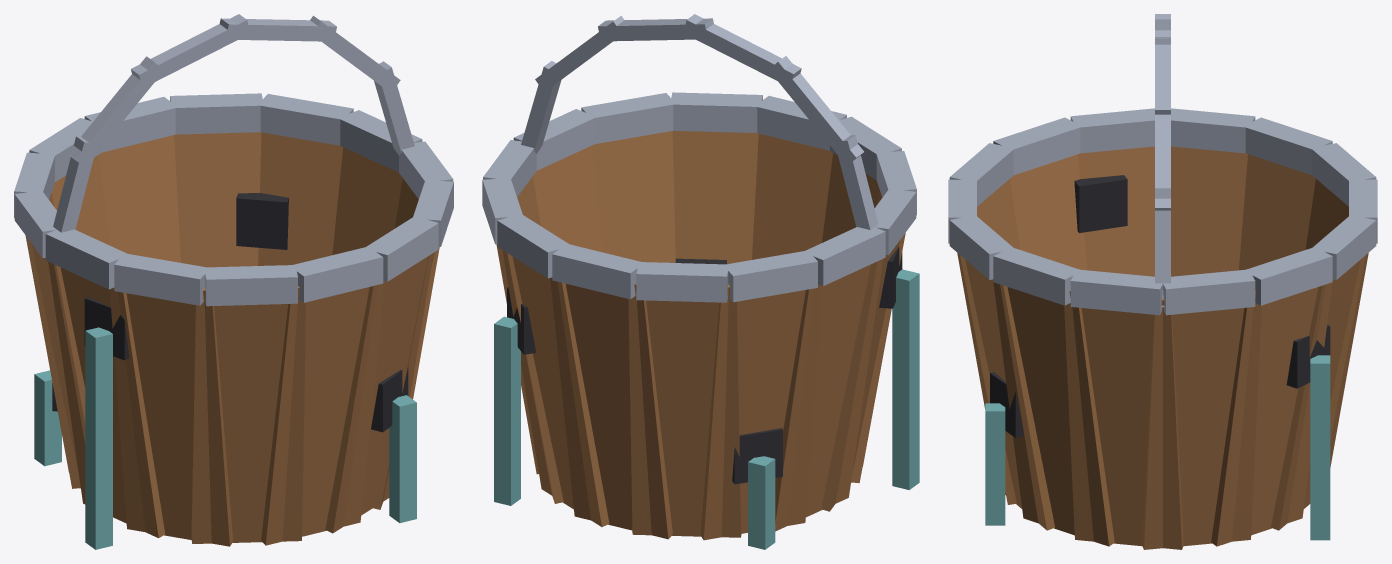
The model's file is bucket_leaky.glb.
3 views of the same model, side by side, from view 1: azimuth 30°, elevation 25°; view 2: azimuth 150°, elevation 25°; view 3: azimuth 270°, elevation 25° (orthographic). The views are drawn at different scales.
Parts seen in each view (by area): view 1: bucket_leaky; view 2: bucket_leaky; view 3: bucket_leaky.
Part boxes in pixels (x1=…): bucket_leaky: x1=14, y1=14, x2=453, y2=549; bucket_leaky: x1=482, y1=14, x2=919, y2=549; bucket_leaky: x1=948, y1=14, x2=1377, y2=549.
Size of the model in its own units: 0.75 by 0.8629 by 0.75.
